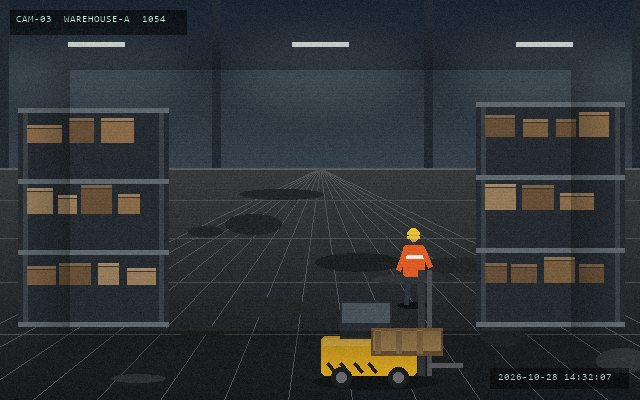forklift: (317, 268, 464, 389)
pallet: (369, 326, 444, 357)
person: (396, 226, 431, 307)
shelf: (476, 102, 624, 322), (18, 108, 168, 322)
